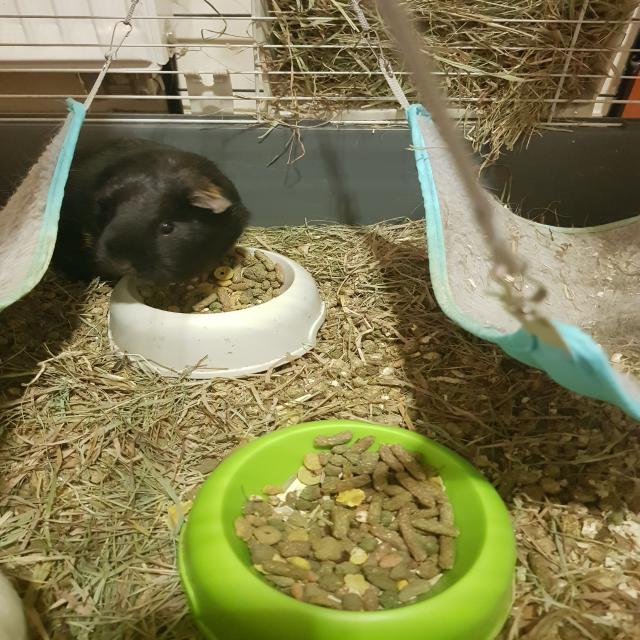guinea pig: (48, 137, 250, 293)
